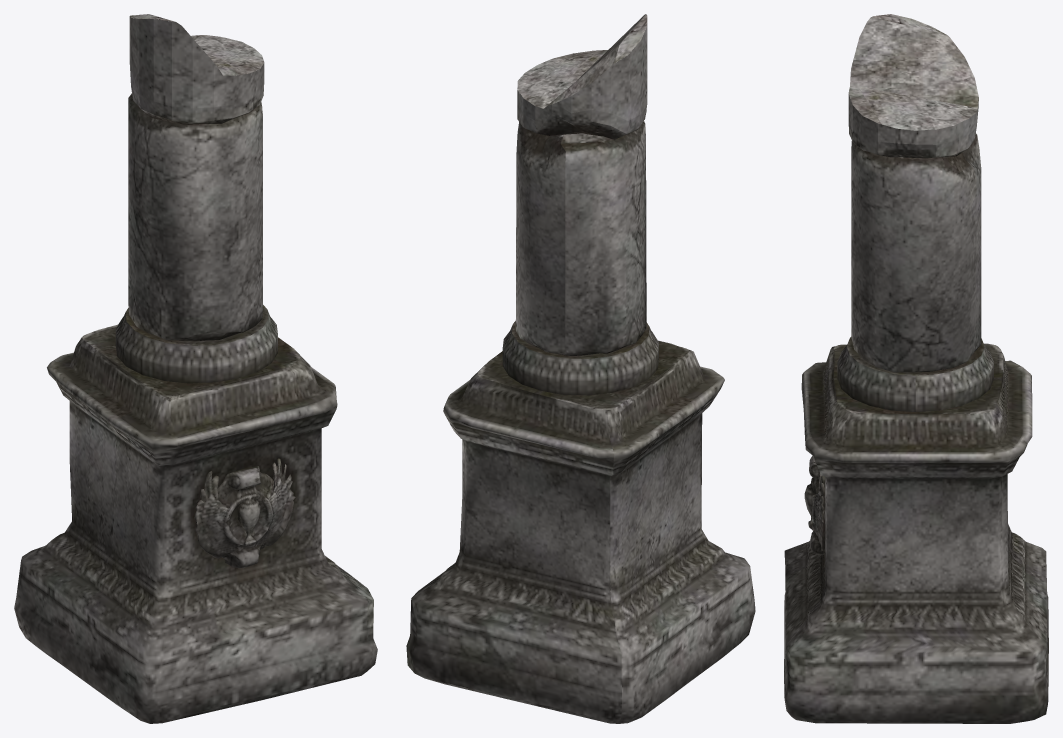
The model's file is eso_ss1_column4_1-transformed.glb.
3 renders of one model, left to right at view 1: azimuth 30°, elevation 25°; view 2: azimuth 150°, elevation 25°; view 3: azimuth 270°, elevation 25°, orthographic. The views are drawn at different scales.
Visible parts, largest first — view 1: default; view 2: default; view 3: default.
Boxes of the visible parts, x1,y1,x2,y2 form: default: (14, 14, 377, 723); default: (406, 14, 755, 723); default: (784, 14, 1048, 723).
Bounding box in the file's own units: 3.09 × 8.1 × 3.07.
2 materials, 2 textured.
